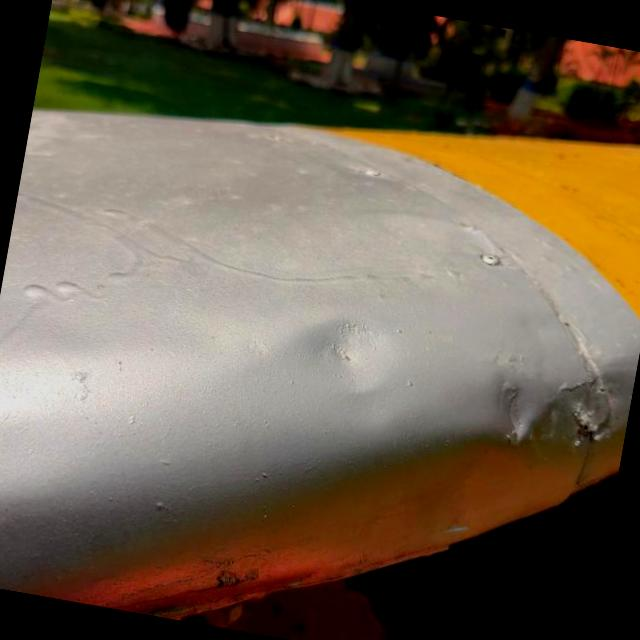dent: (268, 278, 425, 432), (460, 350, 578, 472)
